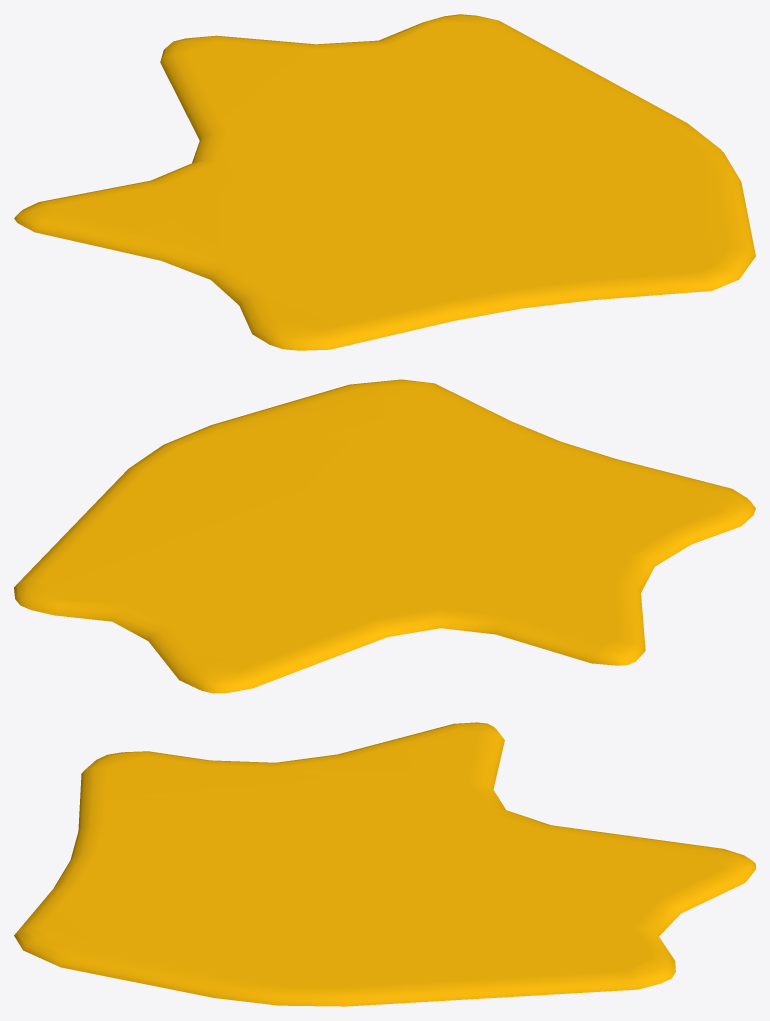
Rendered from Water.fbx.
3 renders of one model, top to bottom at view 1: azimuth 30°, elevation 25°; view 2: azimuth 150°, elevation 25°; view 3: azimuth 270°, elevation 25°, orthographic. The views are drawn at different scales.
Parts seen in each view (by area): view 1: Water; view 2: Water; view 3: Water.
Part boxes in pixels (<box>): Water: <box>14,14,755,350</box>; Water: <box>14,379,755,693</box>; Water: <box>14,722,755,1006</box>.
Size of the model in its own units: 147 by 2 by 163.
